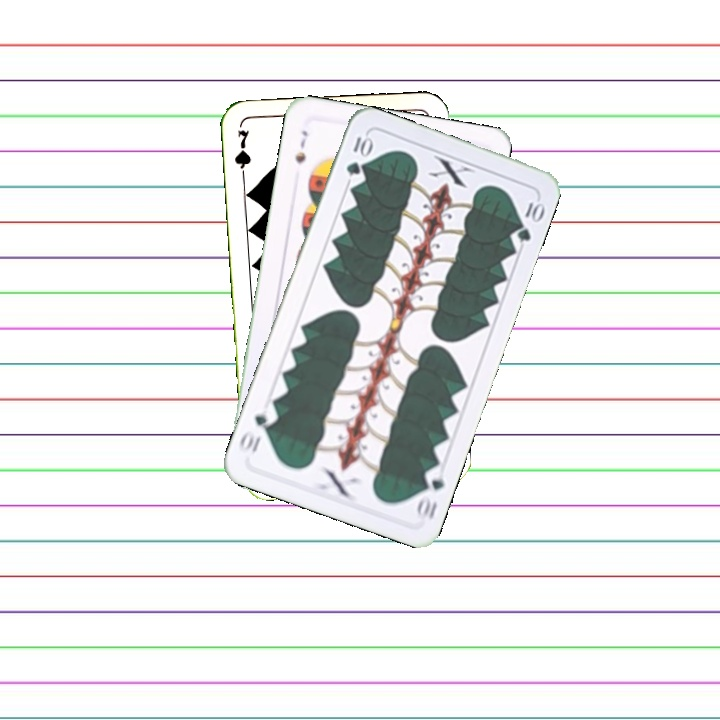G10: (412, 463, 447, 523), (342, 133, 374, 178)
G7: (230, 126, 254, 185)
S7: (291, 126, 310, 166)
